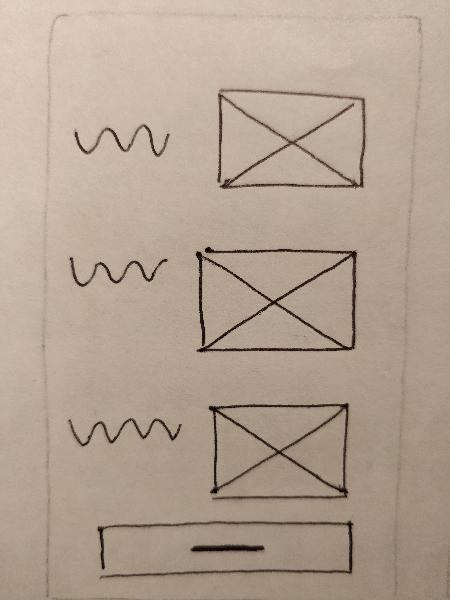button: (79, 513, 368, 588)
image: (203, 69, 377, 206), (188, 237, 365, 364), (202, 396, 360, 505)
text: (60, 406, 194, 461), (68, 113, 171, 174), (62, 245, 170, 295)
